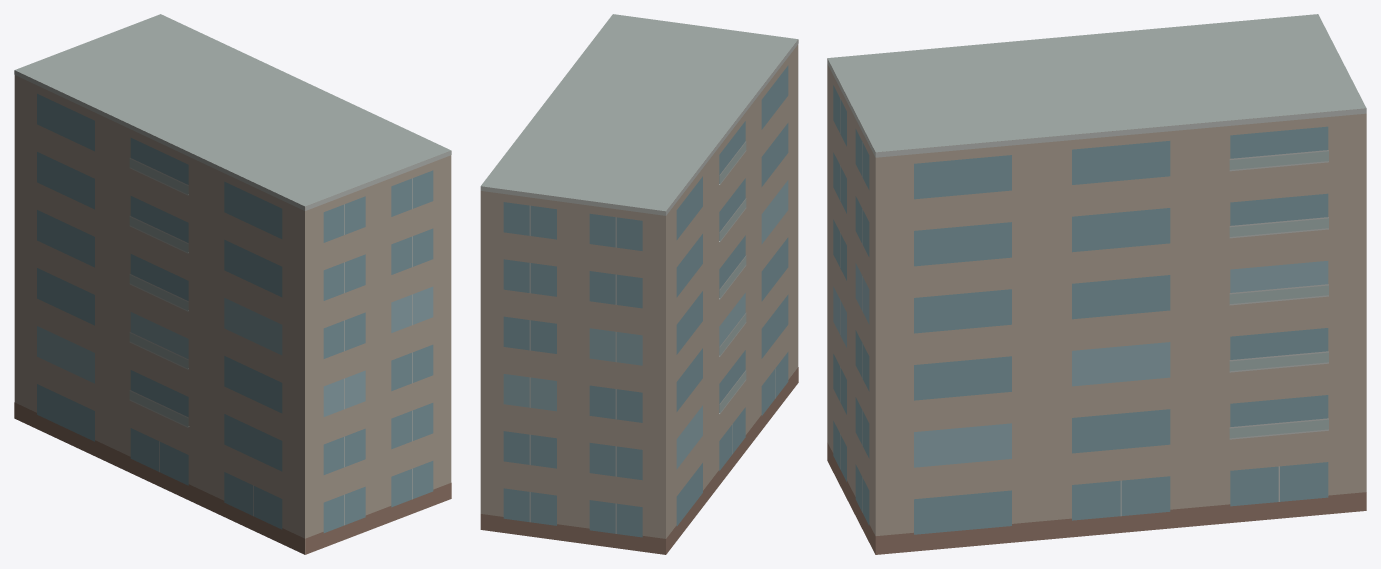
Rendered from survey-upis-33020655.glb.
The picture shows the model from 3 angles, left to right: view 1: azimuth 30°, elevation 25°; view 2: azimuth 150°, elevation 25°; view 3: azimuth 270°, elevation 25°; orthographic projection. The views are drawn at different scales.
Parts seen in each view (by area): view 1: survey-upis-33020655.tmp; view 2: survey-upis-33020655.tmp; view 3: survey-upis-33020655.tmp.
Boxes of the visible parts, x1,y1,x2,y2 form: survey-upis-33020655.tmp: (14,14,451,554); survey-upis-33020655.tmp: (480,14,798,554); survey-upis-33020655.tmp: (827,14,1366,554).
Bounding box in the file's own units: 13.5 × 18.3 × 22.23.
